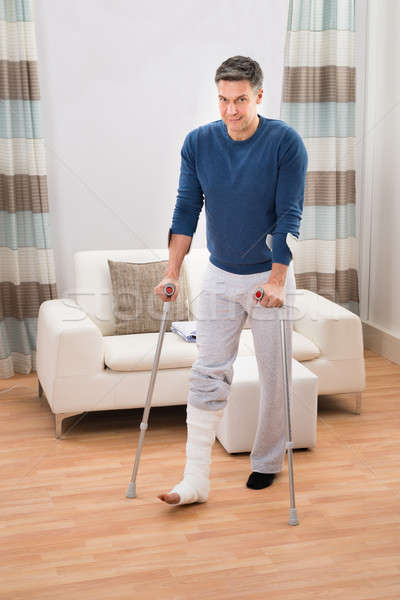crutches: (124, 54, 306, 526)
